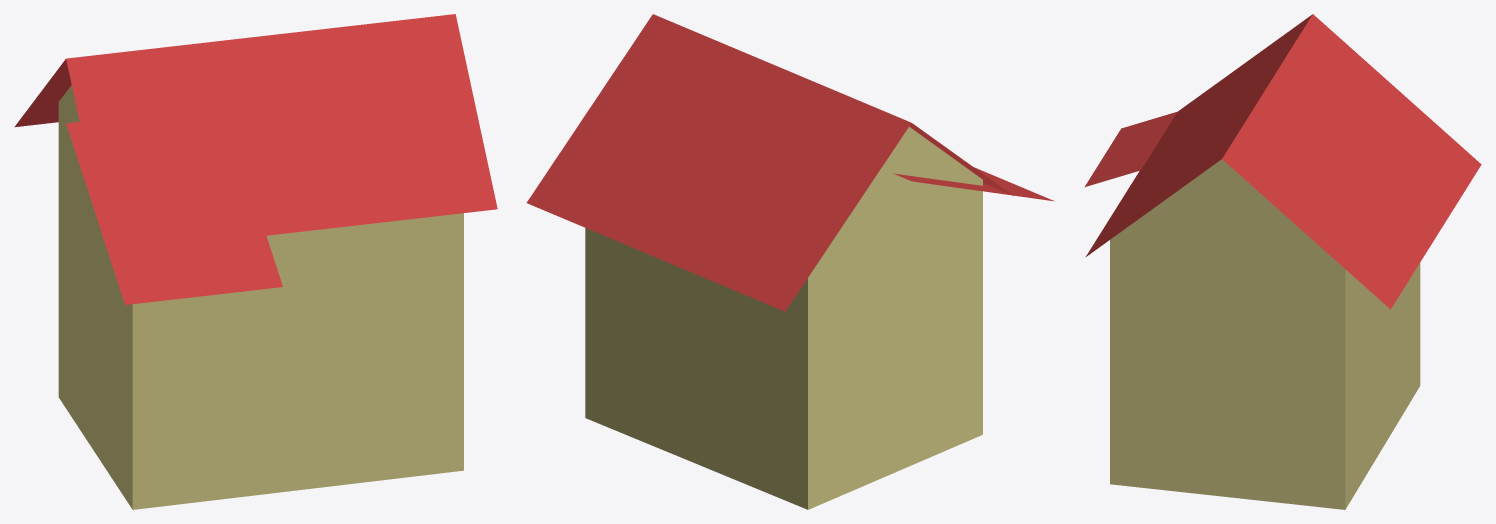
The picture shows the model from 3 angles, left to right: view 1: azimuth 30°, elevation 25°; view 2: azimuth 150°, elevation 25°; view 3: azimuth 270°, elevation 25°; orthographic projection. The views are drawn at different scales.
Bounding box in the file's own units: 15.04 × 13.62 × 13.2.
